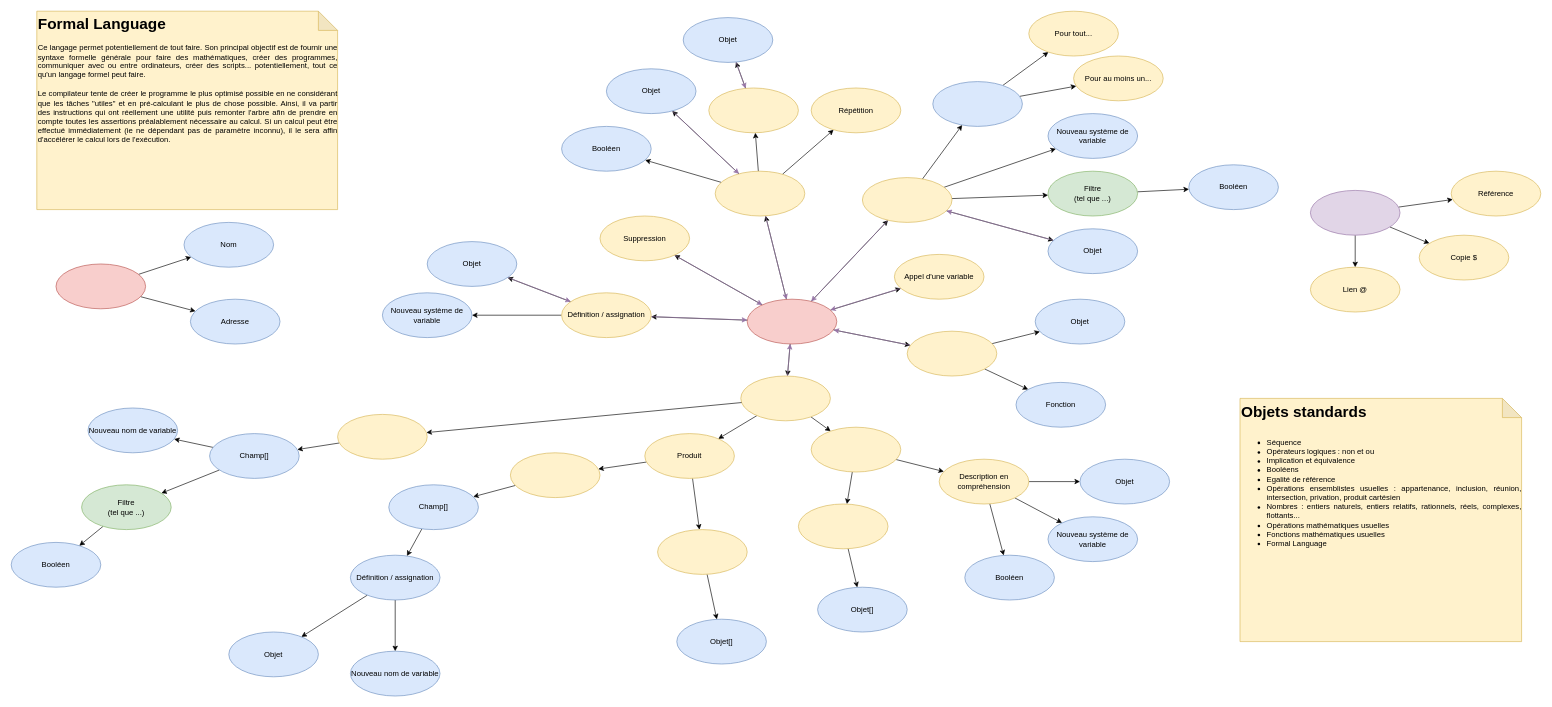
Image size: 1552x707. Some labels were removed from this diagram. Each missing label, with the centre of its shape:
"Alternative" belongs at [753,110].
"Appel d'une fonction" belongs at [952,353].
"Assertion" belongs at [792,321].
"Classe (objet)" belongs at [382,436].
"Couple" belongs at [702,551].
"Description explicite" belongs at [843,526].
"Définition d'un objet" belongs at [785,398].
"Enregistrement" belongs at [555,475].
"Ensemble" belongs at [856,449].
"Passage d'un objet" belongs at [1355,212].
"Quantificateur" belongs at [977,103].
"Quantification" belongs at [907,199].
"Structure conditionnelle" belongs at [760,193].
"Utilisation / inclusion" belongs at [100,286].
